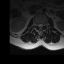CCS_normal: (39, 22, 41, 30)
LFS_stenosis: (43, 22, 45, 27)
LLS_normal: (41, 22, 43, 28)
RFS_normal: (36, 22, 38, 28)
RLS_normal: (38, 22, 39, 28)
